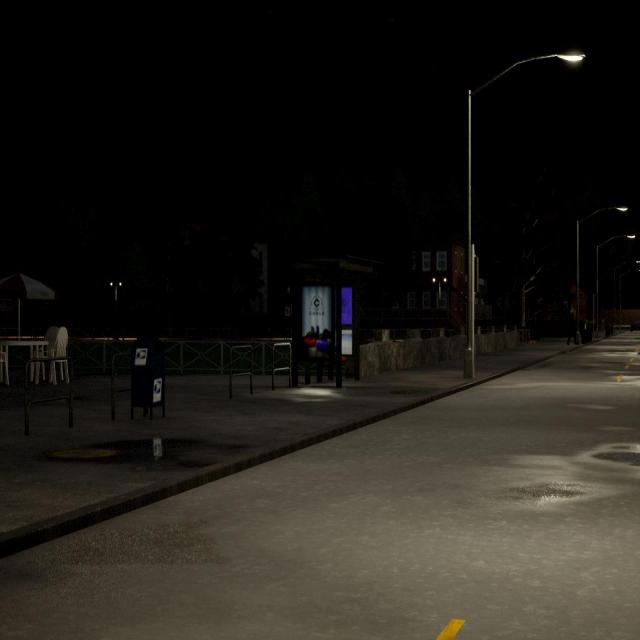Pedestrian: (566, 297, 580, 350)
Vehicle: (626, 315, 640, 333)
traffic_light: (470, 254, 480, 296)
